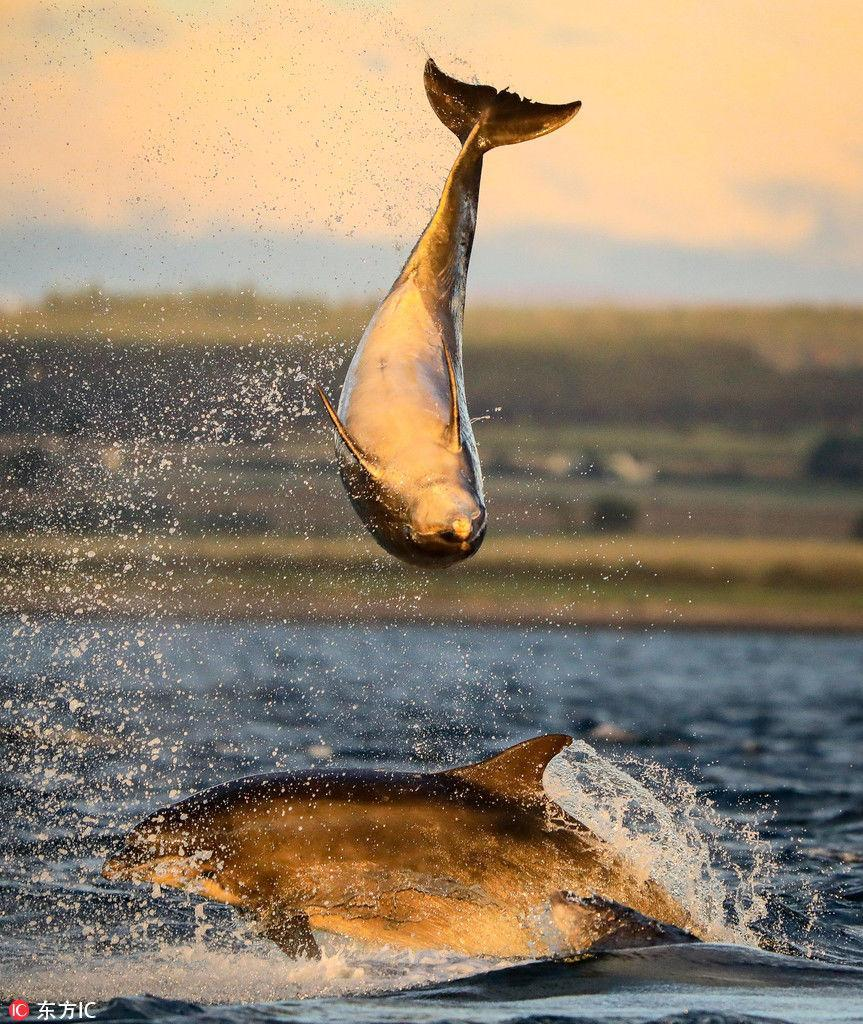fish: (97, 729, 806, 976), (315, 55, 585, 565)
